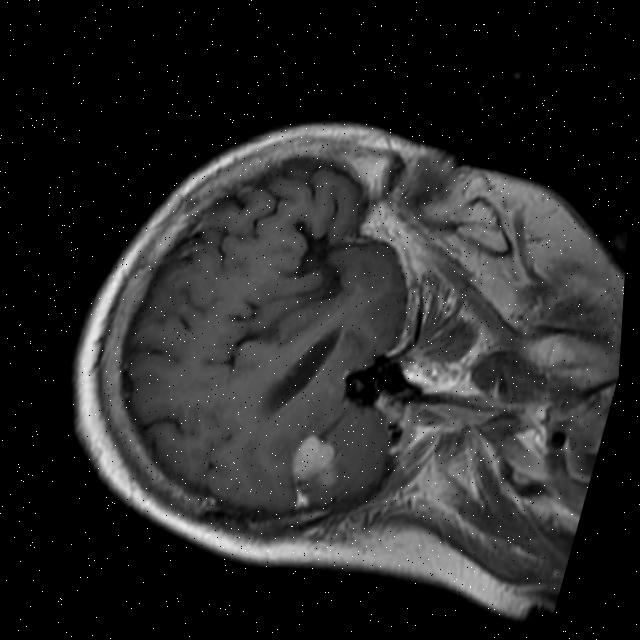Meningioma: (277, 429, 350, 518)
